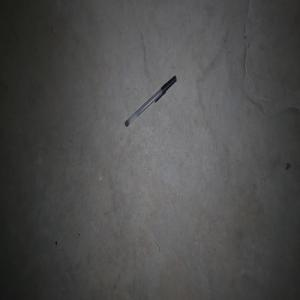Pen: (124, 75, 176, 126)
